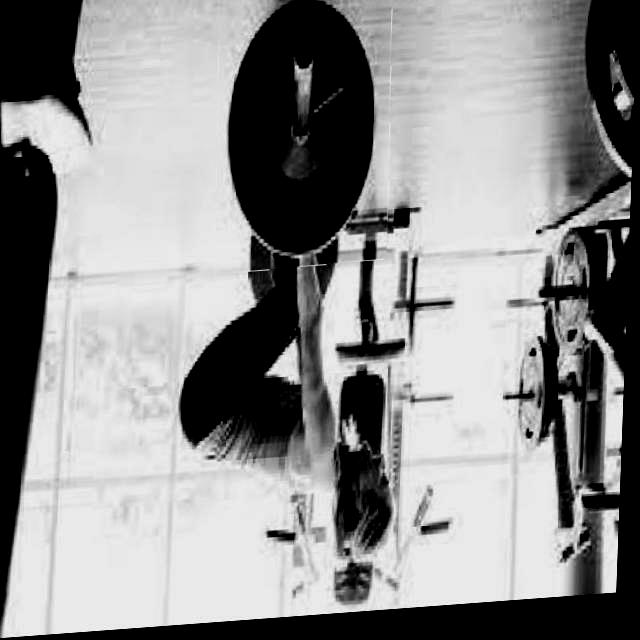barbell: (213, 1, 397, 278)
